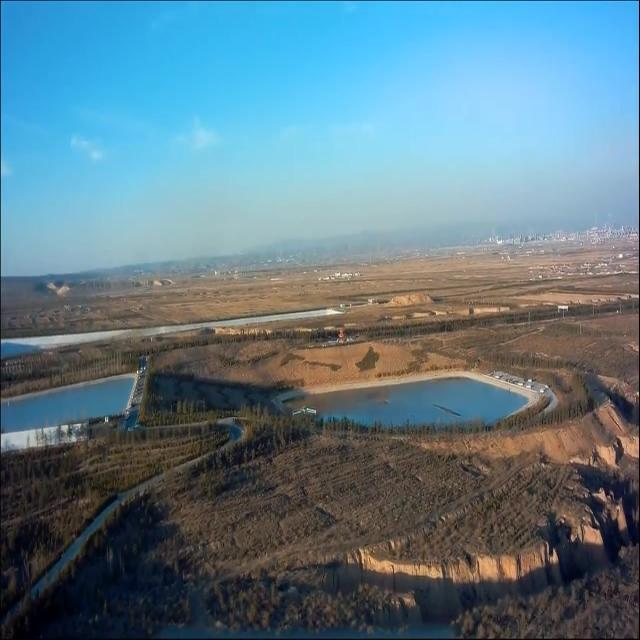iha: (292, 409, 317, 414)
